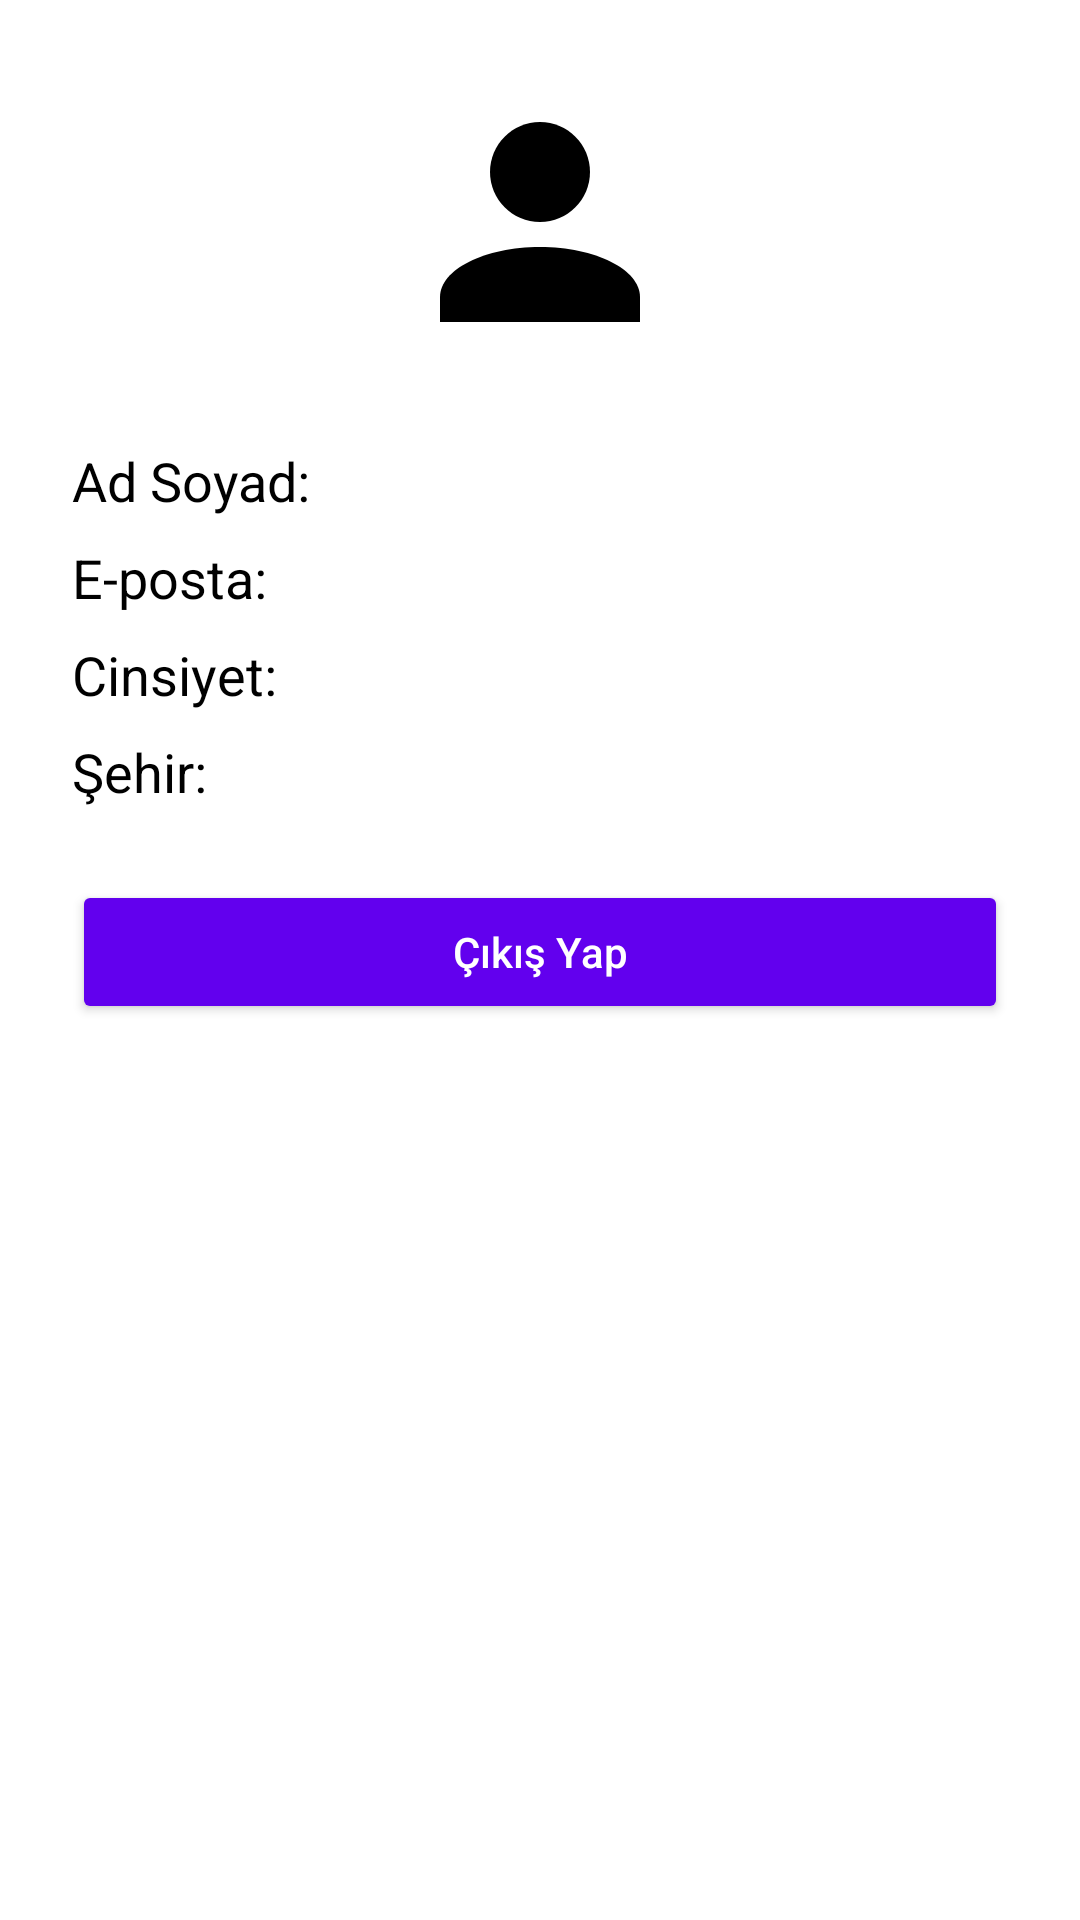

Screen size 1080 × 1920. Icon name, then its box in pixels as bbox(x1, y1, x2, y2):
profil: bbox(440, 122, 640, 322)
